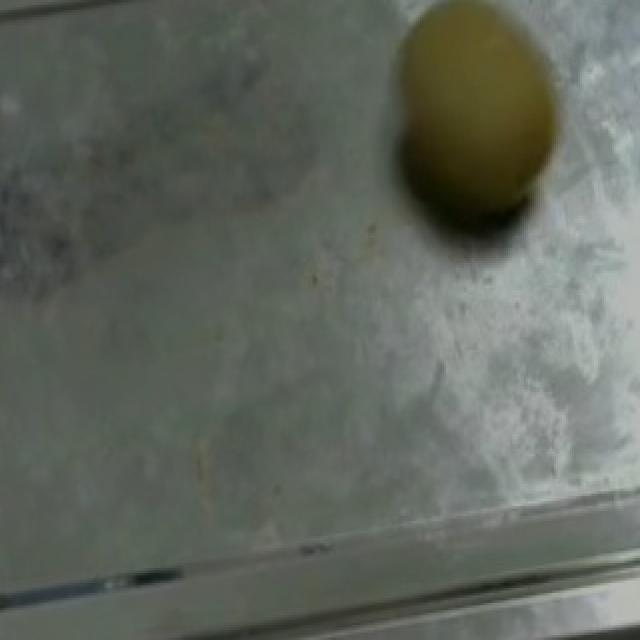Fruit: (354, 0, 592, 258)
